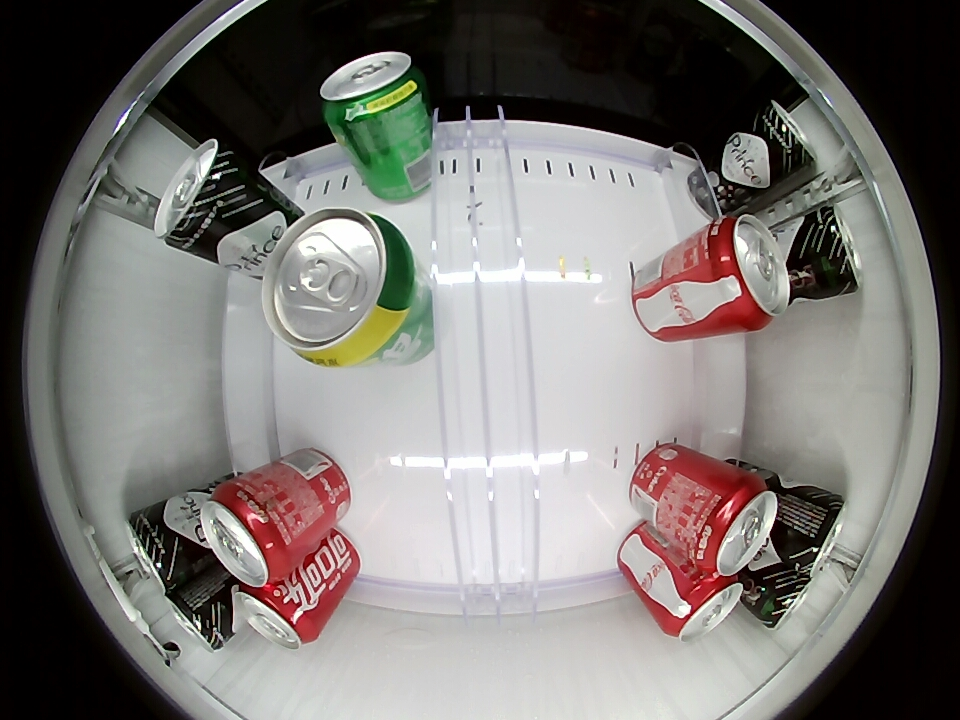kele: (703, 212, 790, 329), (201, 483, 294, 588), (688, 475, 780, 577), (234, 583, 319, 649), (662, 572, 743, 641)
qingdaowangzi-1: (154, 138, 242, 256), (798, 204, 864, 300), (780, 489, 848, 575), (126, 502, 189, 594), (756, 98, 815, 175), (750, 566, 816, 629), (164, 593, 230, 653)
xuebi2: (264, 207, 419, 368), (320, 51, 428, 130)
